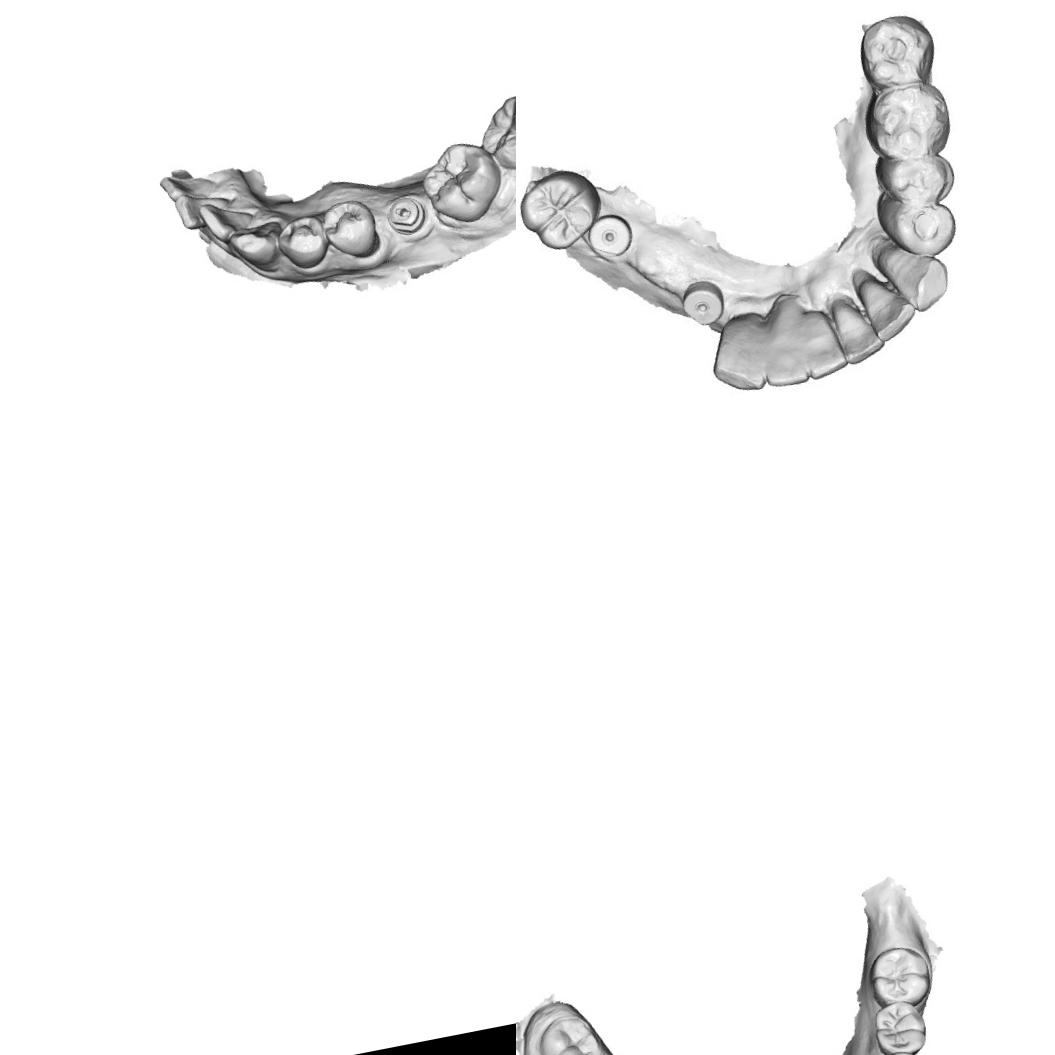canine: (875, 232, 954, 319), (700, 312, 770, 398), (224, 216, 289, 280)
implant: (580, 202, 646, 266), (672, 268, 730, 331)
implant_minus: (380, 190, 430, 238)
incisor: (748, 297, 812, 392), (788, 295, 846, 380), (853, 262, 916, 340), (828, 287, 886, 364), (195, 192, 260, 248), (170, 185, 232, 232)
molar: (414, 134, 510, 231), (848, 4, 945, 95), (861, 78, 956, 167), (516, 163, 598, 251), (864, 940, 932, 1008), (868, 993, 932, 1055), (472, 86, 516, 176), (531, 1007, 608, 1055)
premolar: (887, 189, 961, 260), (316, 192, 382, 264), (884, 150, 954, 205), (272, 210, 332, 273)
